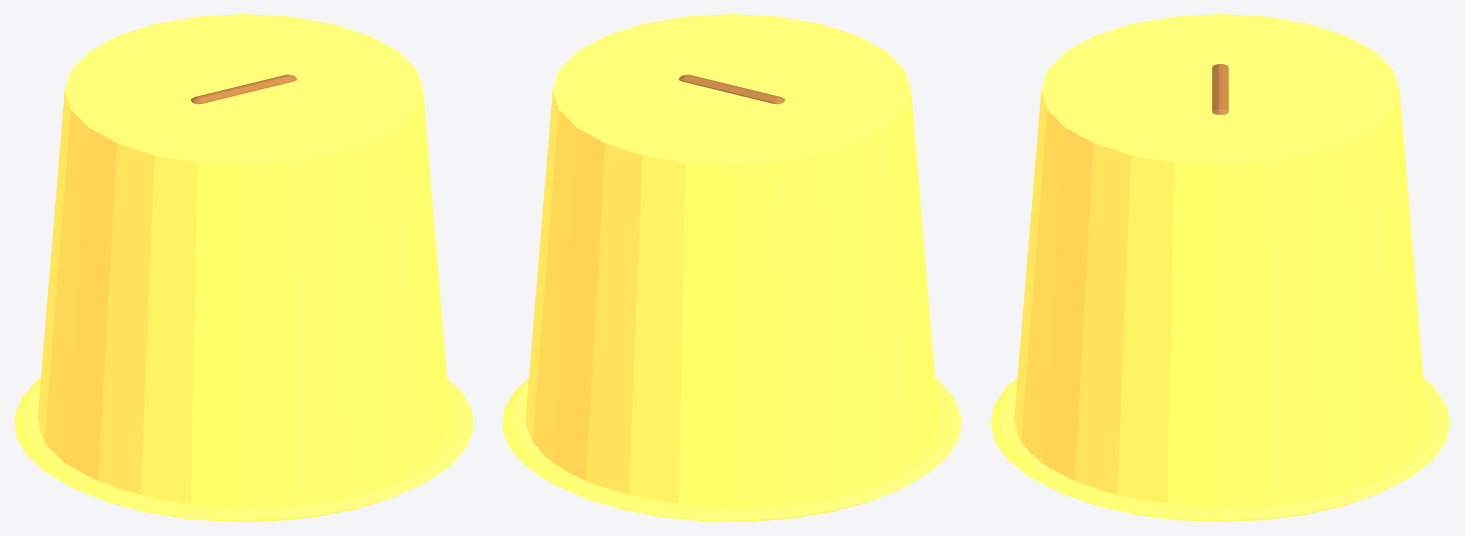
The model's file is marker_pizza.glb.
The picture shows the model from 3 angles, left to right: view 1: azimuth 30°, elevation 25°; view 2: azimuth 150°, elevation 25°; view 3: azimuth 270°, elevation 25°; orthographic projection.
Parts seen in each view (by area): view 1: marker_pizza, icon; view 2: marker_pizza, icon; view 3: marker_pizza, icon.
Boxes of the visible parts, x1,y1,x2,y2 form: marker_pizza: [14, 14, 473, 521]; icon: [190, 74, 297, 104]; marker_pizza: [502, 14, 961, 521]; icon: [678, 74, 785, 104]; marker_pizza: [990, 14, 1450, 521]; icon: [1212, 64, 1228, 114].
Bounding box in the file's own units: 4.88 × 4.04 × 4.88.
